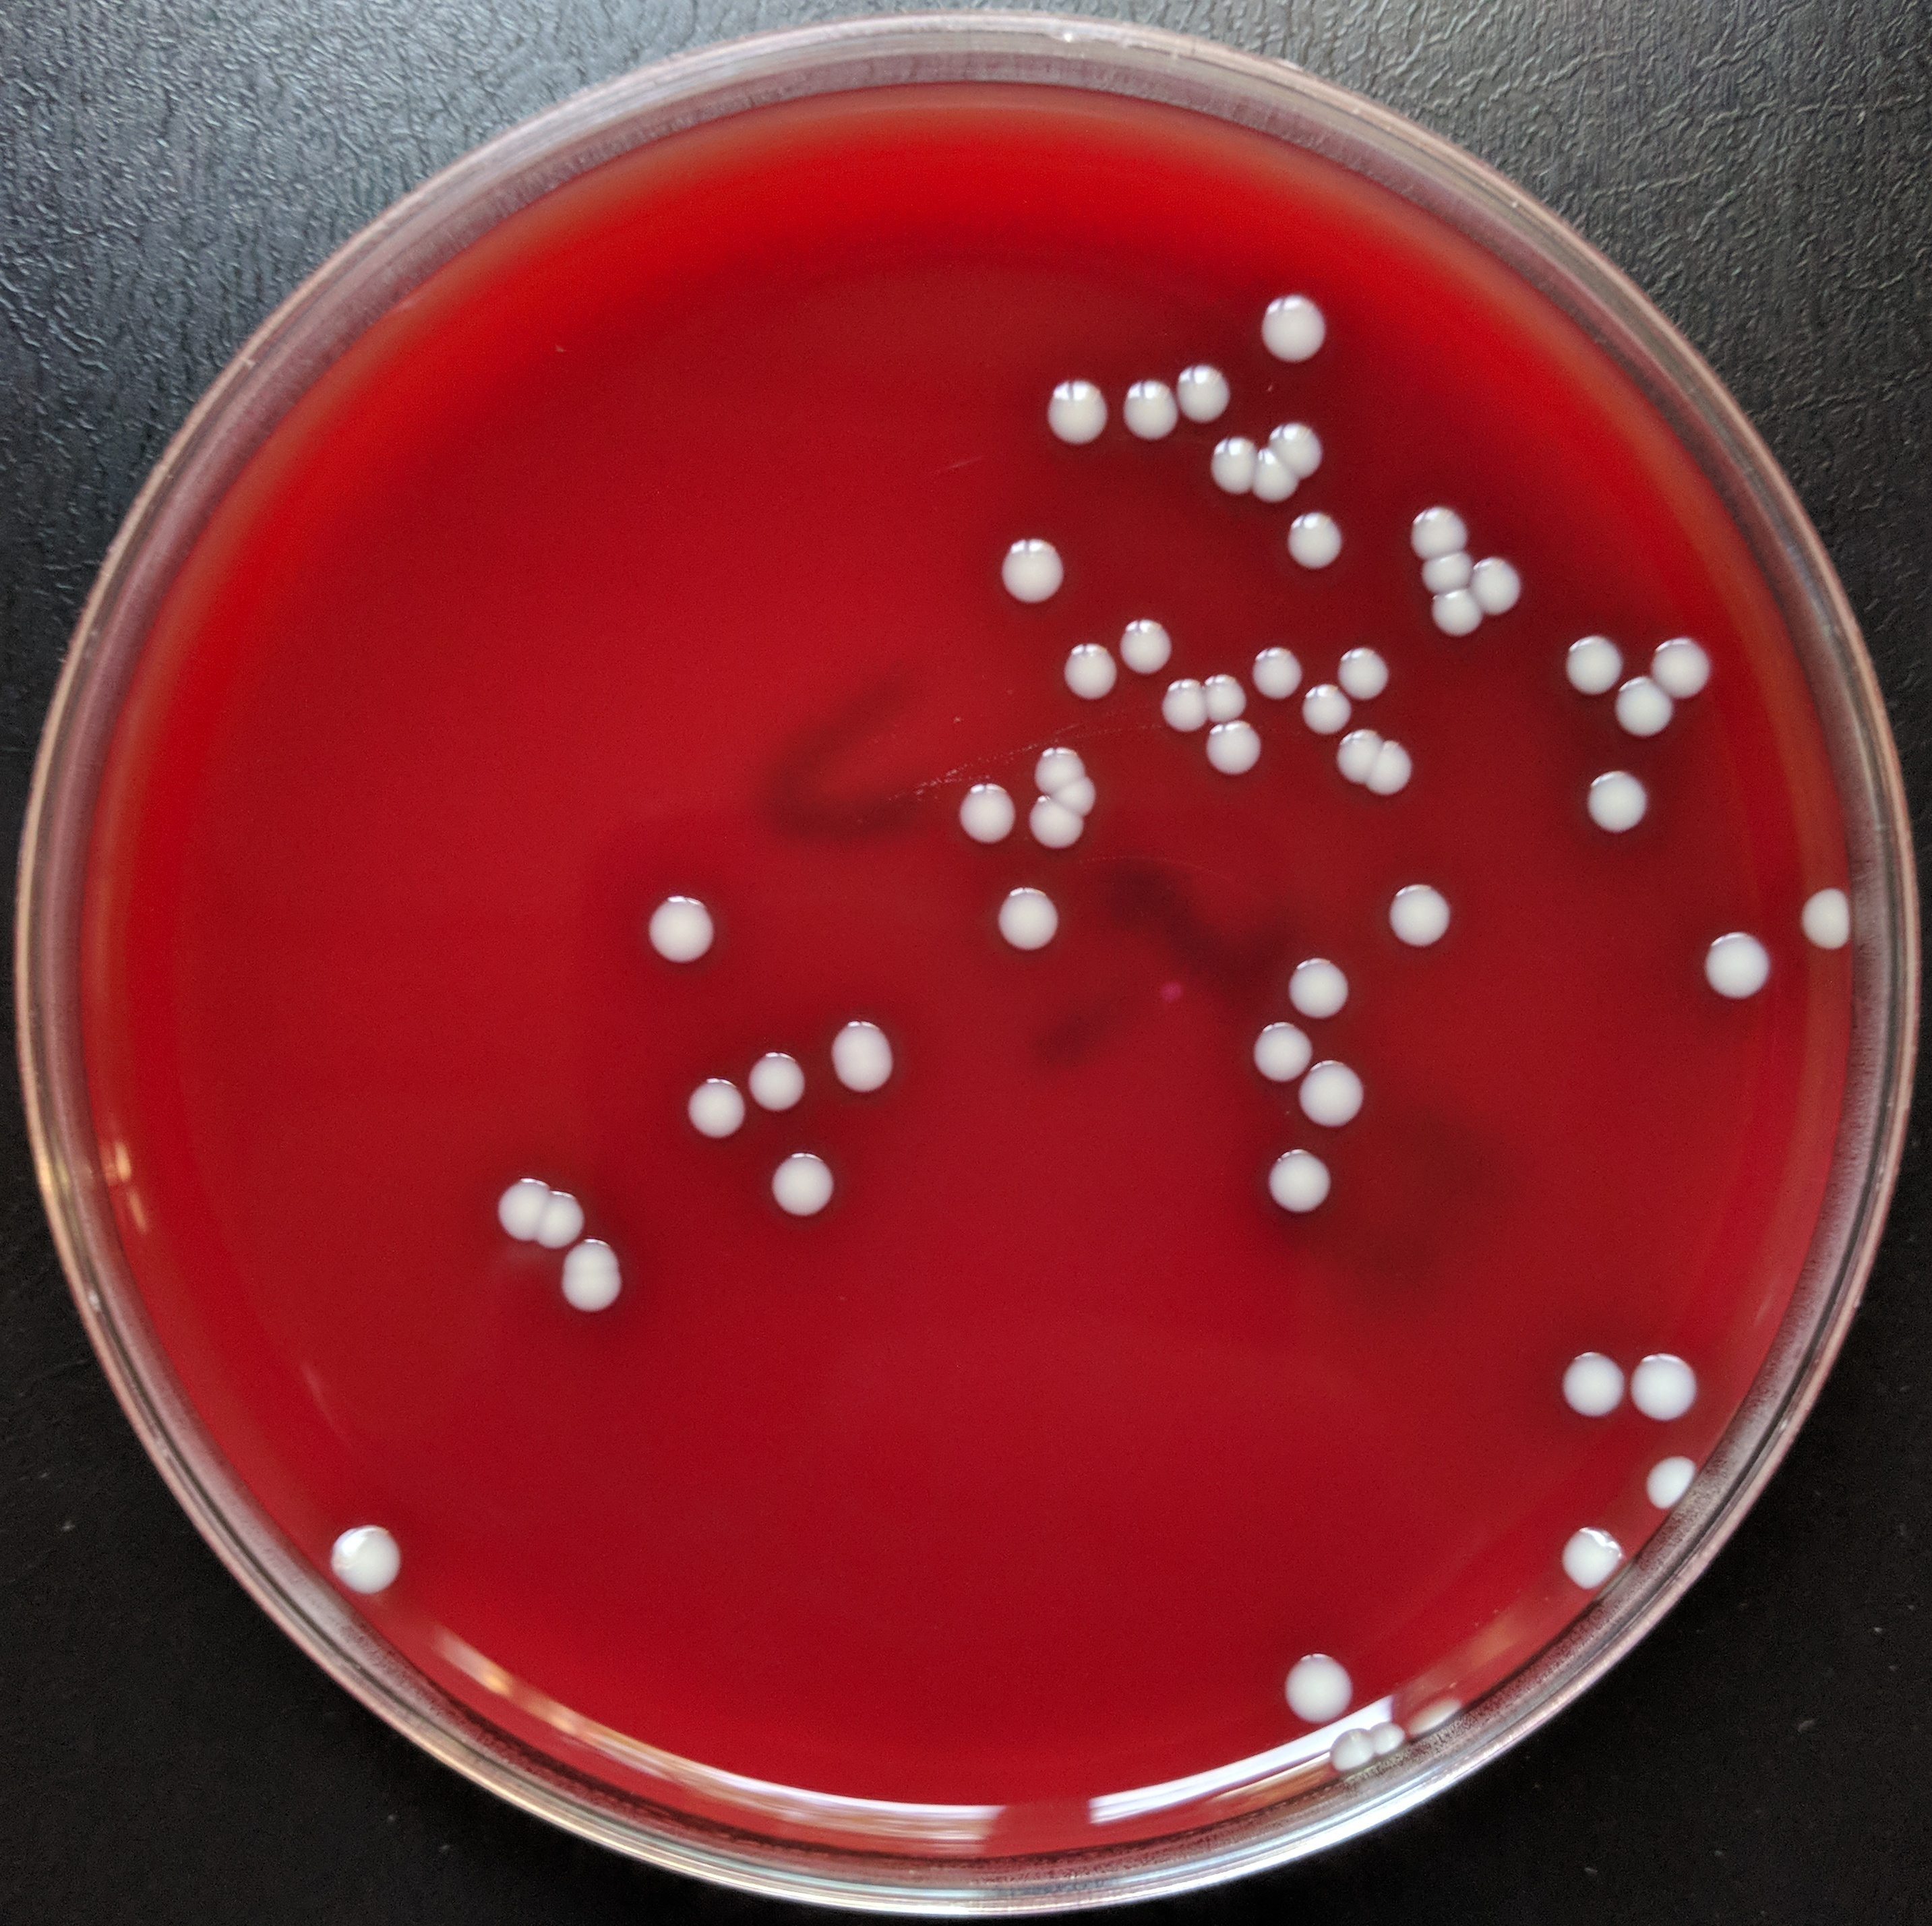sp01: (302, 1510, 445, 1596), (820, 1004, 928, 1108), (639, 843, 720, 970), (1269, 1633, 1369, 1728), (985, 866, 1071, 974), (1239, 284, 1341, 374), (1113, 355, 1186, 481), (1531, 1337, 1627, 1430), (665, 1056, 752, 1155), (1540, 1519, 1636, 1605), (759, 1159, 852, 1245), (1286, 483, 1364, 587), (1611, 1337, 1706, 1422), (1567, 764, 1666, 845), (1277, 928, 1359, 1026), (1634, 621, 1724, 707), (549, 1226, 632, 1319), (1034, 363, 1115, 459), (1175, 337, 1249, 441), (1553, 617, 1643, 702), (1046, 638, 1138, 721), (1239, 621, 1320, 713), (1292, 1056, 1394, 1129), (1593, 667, 1680, 751), (1687, 924, 1777, 1005), (1394, 474, 1470, 570), (1376, 861, 1452, 956), (985, 524, 1066, 610), (1389, 533, 1489, 601), (466, 1153, 538, 1249), (1239, 422, 1302, 526), (736, 1030, 808, 1120), (1406, 577, 1493, 649), (1101, 603, 1186, 676), (1251, 1145, 1332, 1219), (531, 1168, 603, 1249), (1265, 418, 1346, 489), (1016, 728, 1112, 787), (1242, 998, 1306, 1085), (1798, 878, 1856, 970), (949, 758, 1013, 841), (1336, 626, 1403, 702), (1283, 667, 1359, 734), (1198, 711, 1270, 778), (1145, 667, 1217, 734), (1029, 799, 1106, 859), (1401, 1676, 1468, 1744), (1362, 732, 1434, 795), (1309, 728, 1382, 792), (1194, 653, 1258, 725), (1643, 1452, 1715, 1515), (1212, 427, 1267, 506), (1473, 550, 1531, 617), (1327, 1728, 1373, 1783), (1043, 776, 1106, 813), (1369, 1716, 1408, 1764)
